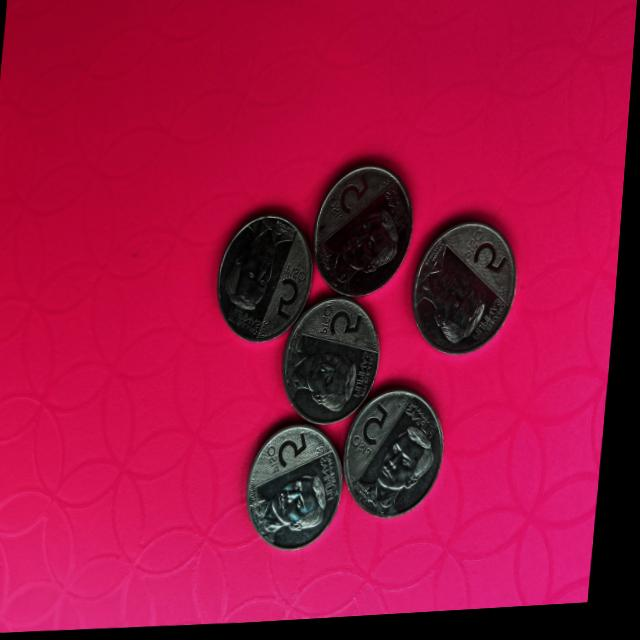5_New_Front: (461, 219, 514, 294), (355, 404, 400, 471), (330, 175, 372, 232), (267, 440, 320, 481), (276, 268, 312, 328), (324, 307, 368, 349)
